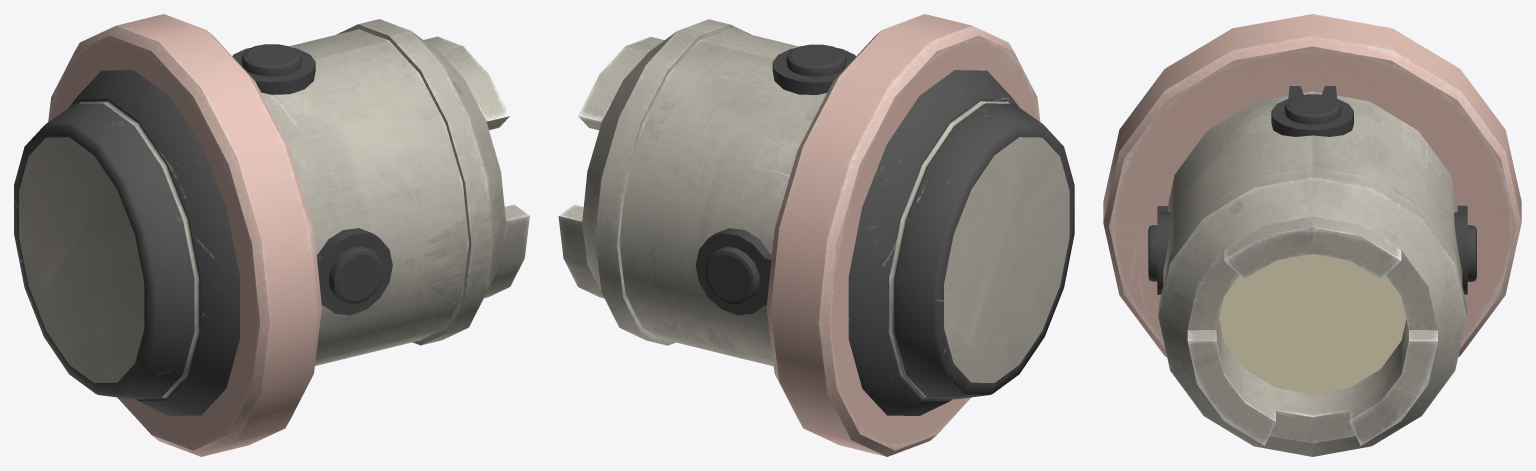
File: guard_2_c_c.glb
3 renders of one model, left to right at view 1: azimuth 30°, elevation 25°; view 2: azimuth 150°, elevation 25°; view 3: azimuth 270°, elevation 25°, orthographic. The views are drawn at different scales.
Visible parts, largest first — view 1: guard_2_c_c_lod0; view 2: guard_2_c_c_lod0; view 3: guard_2_c_c_lod0.
Part boxes in pixels (x1,y1,x2,y2): guard_2_c_c_lod0: (14,14,529,456); guard_2_c_c_lod0: (558,14,1074,456); guard_2_c_c_lod0: (1103,14,1521,456).
Size of what is drawn, in the model's own units: 0.047 by 0.047 by 0.0475.
Materials: 1 (1 with a texture image).
